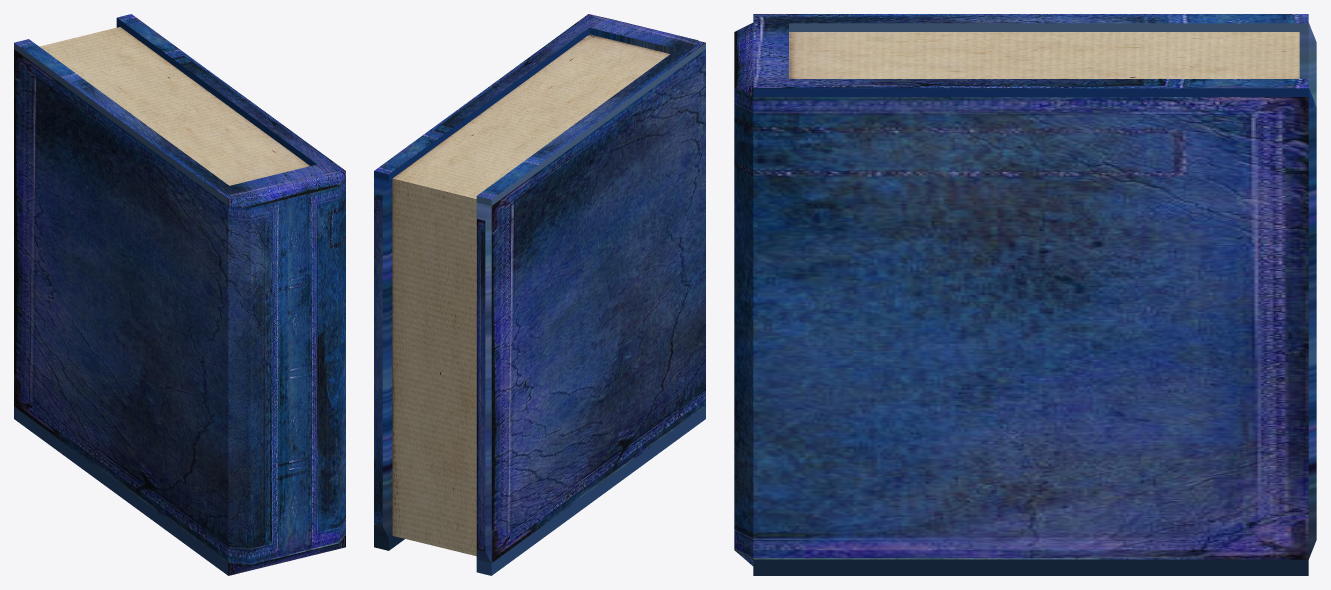
Rendered from booksOutline.fbx.
3 renders of one model, left to right at view 1: azimuth 30°, elevation 25°; view 2: azimuth 150°, elevation 25°; view 3: azimuth 270°, elevation 25°, orthographic. The views are drawn at different scales.
Parts seen in each view (by area): view 1: Cube; view 2: Cube; view 3: Cube.
Boxes of the visible parts, box(x1,y1,x2,y2) form: Cube: box(14, 14, 345, 575); Cube: box(374, 14, 705, 575); Cube: box(734, 14, 1316, 575).
Size of the model in its own units: 68.84 by 211 by 228.
